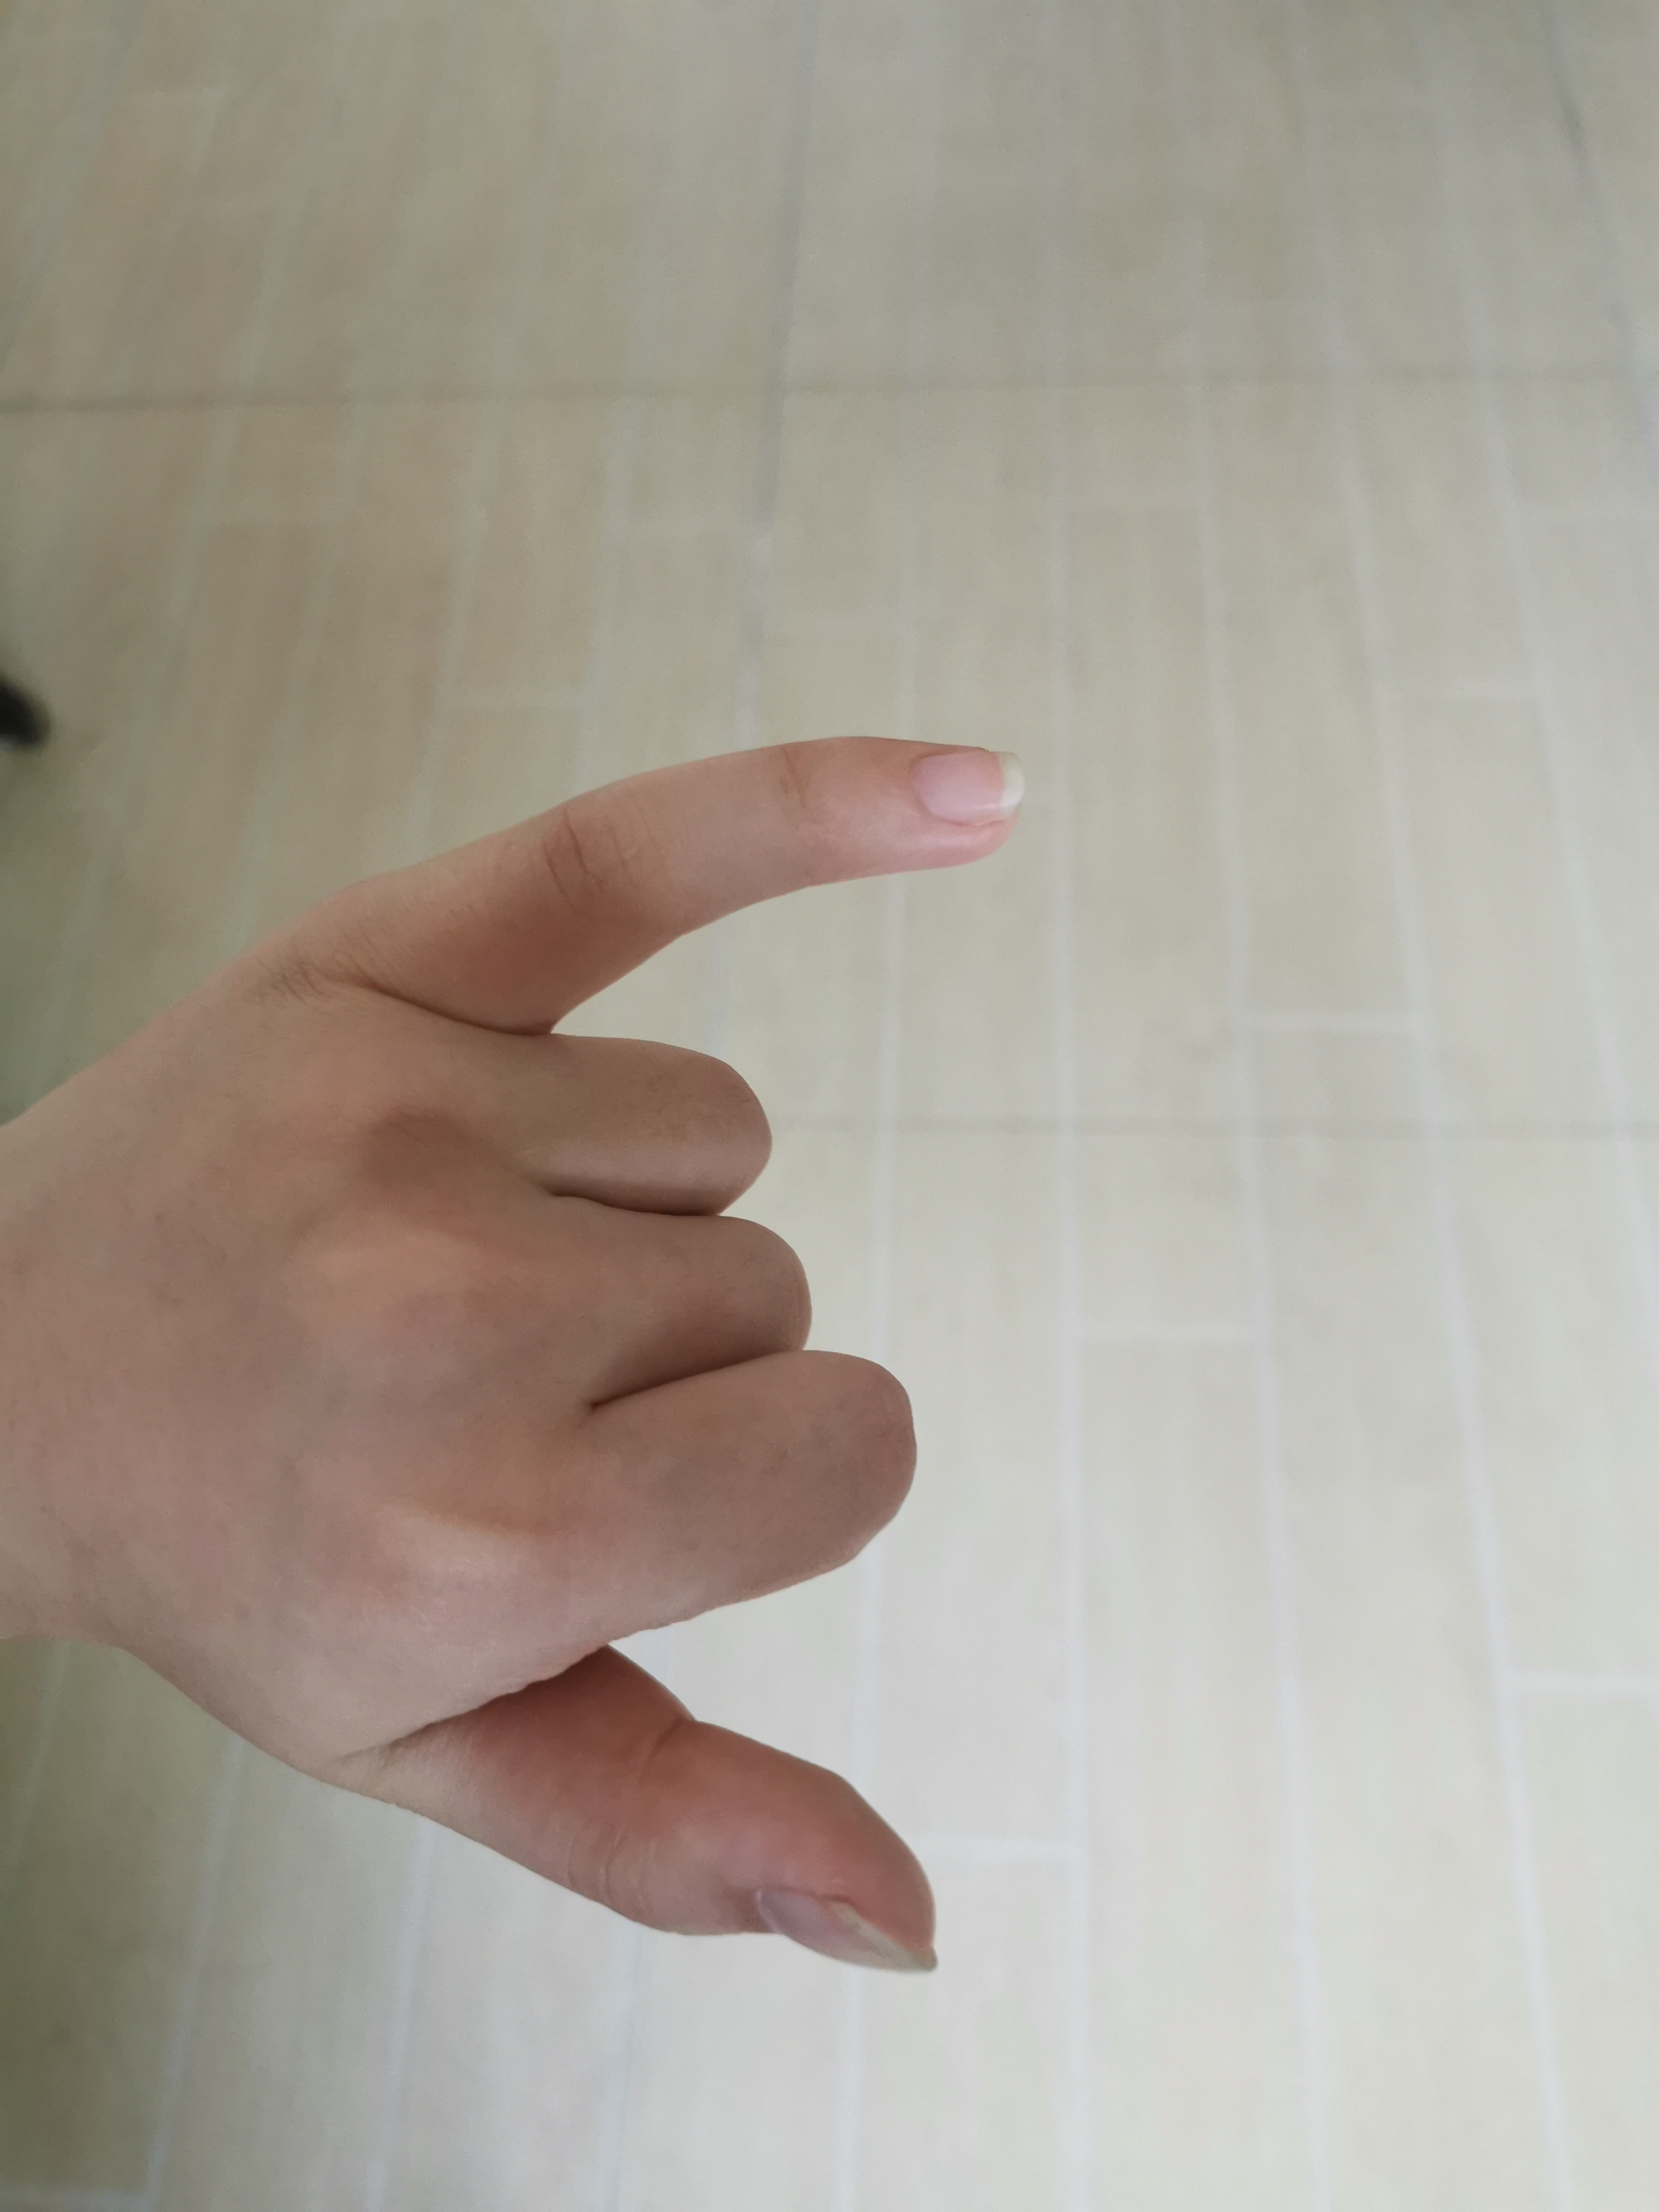clockwise: (51, 721, 1051, 1982)
